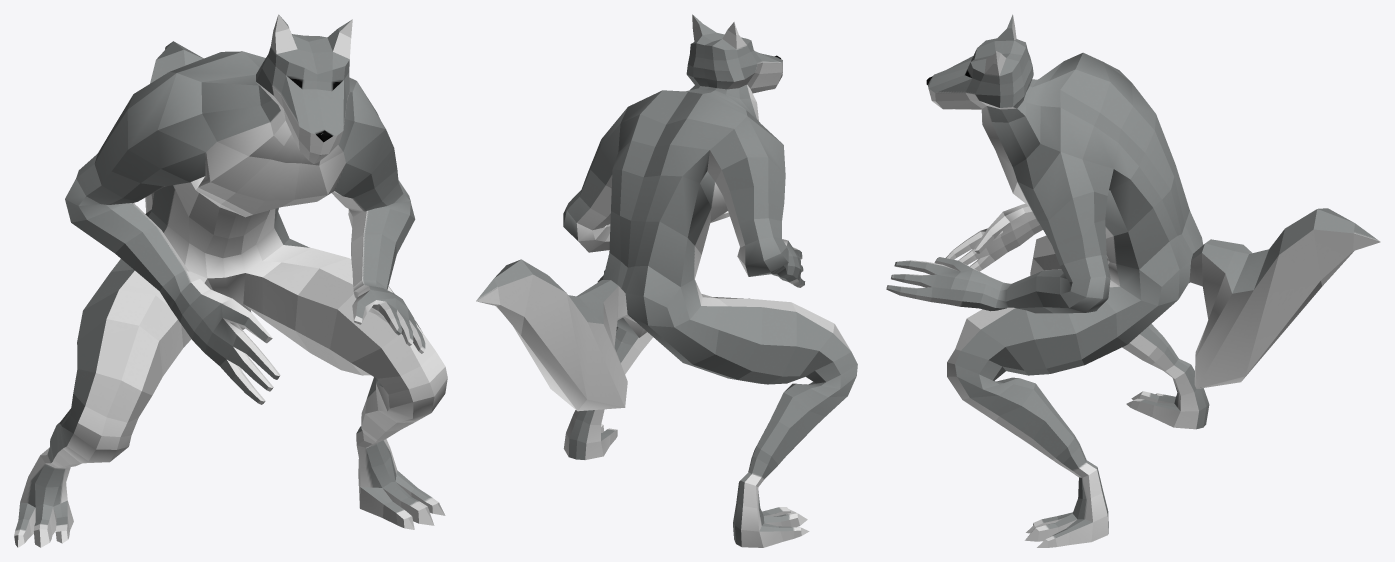
File: WolfAttack(66).obj
The picture shows the model from 3 angles, left to right: view 1: azimuth 30°, elevation 25°; view 2: azimuth 150°, elevation 25°; view 3: azimuth 270°, elevation 25°; orthographic projection. The views are drawn at different scales.
Parts seen in each view (by area): view 1: Box001; view 2: Box001; view 3: Box001.
Boxes of the visible parts, x1,y1,x2,y2 form: Box001: [14, 14, 447, 547]; Box001: [476, 14, 857, 547]; Box001: [886, 14, 1380, 547].
Bounding box in the file's own units: 79.48 × 117 × 113.
